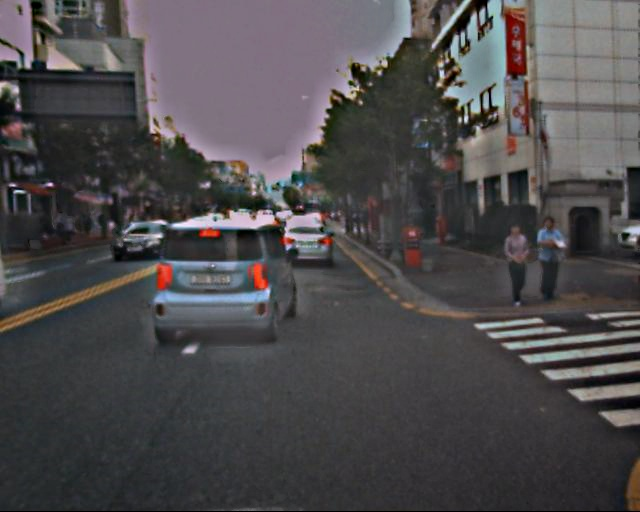person: (527, 216, 564, 306), (498, 221, 534, 310)
